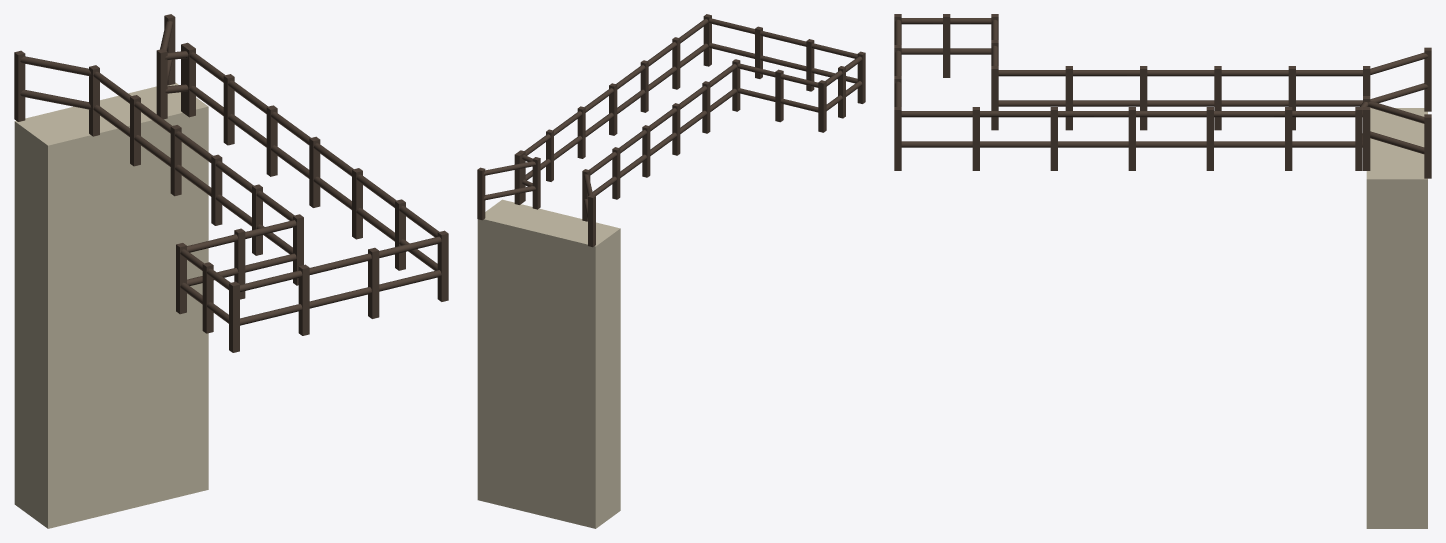
File: siege-landing.glb
The picture shows the model from 3 angles, left to right: view 1: azimuth 30°, elevation 25°; view 2: azimuth 150°, elevation 25°; view 3: azimuth 270°, elevation 25°; orthographic projection. The views are drawn at different scales.
Parts seen in each view (by area): view 1: Mesh_AdapterLanding, Mesh_ExteriorEastRail7.3, Mesh_ExteriorEastRail6.75, Mesh_InnerEastRail7.3, Mesh_InnerEastRail6.75, Mesh_ExteriorNorthRail7.3, Mesh_ExteriorNorthRail6.75, Mesh_AdapterOuterPost1, Mesh_InnerNorthRail7.3, Mesh_ExteriorNorthPost1, Mesh_ExteriorNorthPost2, Mesh_ExteriorEastPost6 (+20 smaller); view 2: Mesh_AdapterLanding, Mesh_ExteriorEastRail7.3, Mesh_ExteriorEastRail6.75, Mesh_InnerEastRail7.3, Mesh_InnerEastRail6.75, Mesh_ExteriorNorthRail7.3, Mesh_ExteriorNorthRail6.75, Mesh_InnerNorthPost2, Mesh_InnerNorthRail6.75, Mesh_InnerNorthRail7.3; view 3: Mesh_AdapterLanding, Mesh_ExteriorEastRail6.75, Mesh_ExteriorEastRail7.3, Mesh_InnerEastRail7.3, Mesh_InnerEastRail6.75.
Boxes of the visible parts, x1=… form: Mesh_AdapterLanding: x1=14, y1=82, x2=208, y2=528; Mesh_ExteriorEastRail7.3: x1=189, y1=52, x2=439, y2=237; Mesh_ExteriorEastRail6.75: x1=189, y1=86, x2=437, y2=270; Mesh_InnerEastRail7.3: x1=93, y1=71, x2=294, y2=220; Mesh_InnerEastRail6.75: x1=93, y1=105, x2=292, y2=254; Mesh_ExteriorNorthRail7.3: x1=240, y1=236, x2=441, y2=291; Mesh_ExteriorNorthRail6.75: x1=240, y1=270, x2=441, y2=325; Mesh_AdapterOuterPost1: x1=156, y1=48, x2=167, y2=119; Mesh_InnerNorthRail7.3: x1=187, y1=220, x2=296, y2=252; Mesh_ExteriorNorthPost1: x1=368, y1=247, x2=379, y2=318; Mesh_ExteriorNorthPost2: x1=298, y1=264, x2=309, y2=335; Mesh_ExteriorEastPost6: x1=437, y1=230, x2=448, y2=301; Mesh_AdapterLanding: x1=477, y1=199, x2=620, y2=528; Mesh_ExteriorEastRail7.3: x1=524, y1=19, x2=708, y2=155; Mesh_ExteriorEastRail6.75: x1=525, y1=43, x2=708, y2=180; Mesh_InnerEastRail7.3: x1=589, y1=64, x2=736, y2=175; Mesh_InnerEastRail6.75: x1=592, y1=88, x2=737, y2=195; Mesh_ExteriorNorthRail7.3: x1=709, y1=18, x2=857, y2=58; Mesh_ExteriorNorthRail6.75: x1=709, y1=43, x2=857, y2=83; Mesh_InnerNorthPost2: x1=818, y1=80, x2=826, y2=132; Mesh_InnerNorthRail6.75: x1=737, y1=88, x2=818, y2=112; Mesh_InnerNorthRail7.3: x1=737, y1=63, x2=818, y2=87; Mesh_AdapterLanding: x1=1366, y1=108, x2=1427, y2=528; Mesh_ExteriorEastRail6.75: x1=901, y1=141, x2=1362, y2=147; Mesh_ExteriorEastRail7.3: x1=901, y1=111, x2=1362, y2=117; Mesh_InnerEastRail7.3: x1=998, y1=70, x2=1362, y2=76; Mesh_InnerEastRail6.75: x1=998, y1=100, x2=1362, y2=106.
Bounding box in the file's own units: 4.03 × 7.4 × 8.77.
